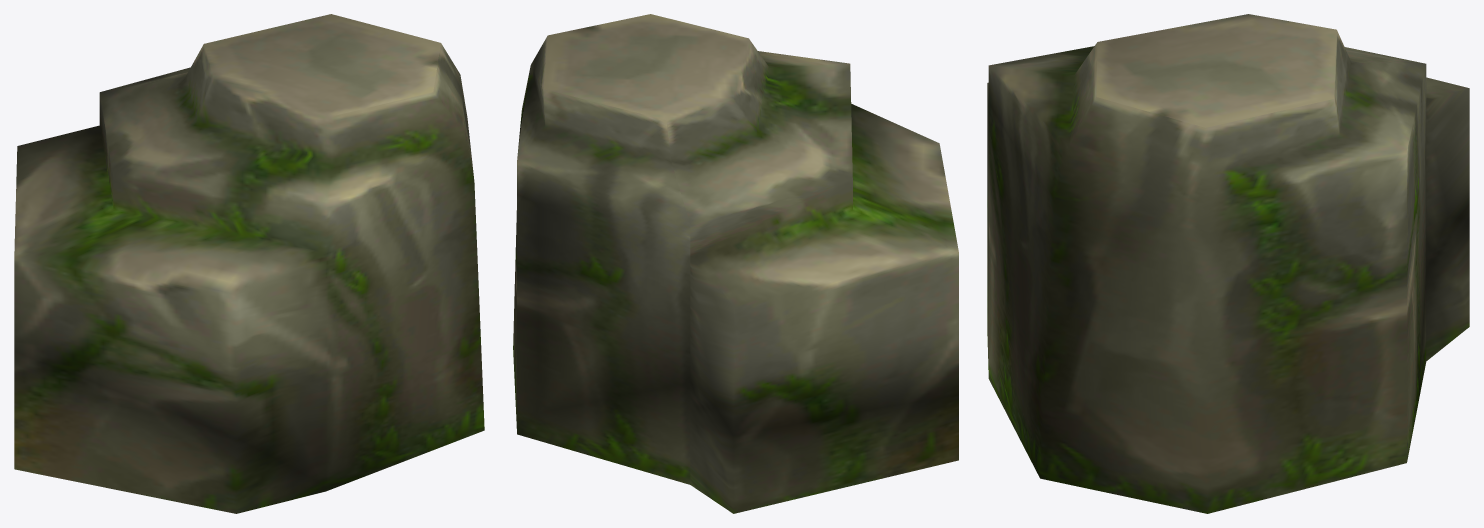
File: RockFormation_4_5 (30).fbx
3 renders of one model, left to right at view 1: azimuth 30°, elevation 25°; view 2: azimuth 150°, elevation 25°; view 3: azimuth 270°, elevation 25°, orthographic. The views are drawn at different scales.
Parts seen in each view (by area): view 1: RockFormation_4_5 (30); view 2: RockFormation_4_5 (30); view 3: RockFormation_4_5 (30).
Part boxes in pixels (x1,y1,x2,y2): RockFormation_4_5 (30): [14, 14, 484, 513]; RockFormation_4_5 (30): [513, 14, 958, 513]; RockFormation_4_5 (30): [987, 14, 1469, 513].
Bounding box in the file's own units: 420 × 287 × 342.
